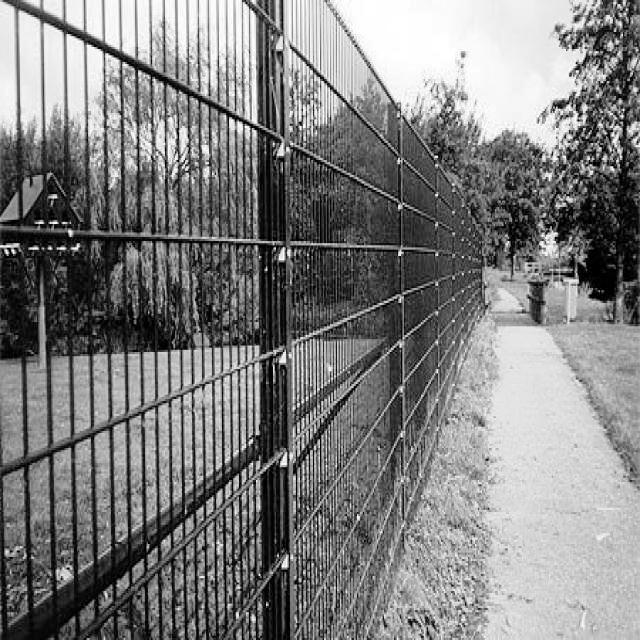fences: (0, 0, 251, 640), (291, 15, 448, 588), (451, 187, 485, 380)
